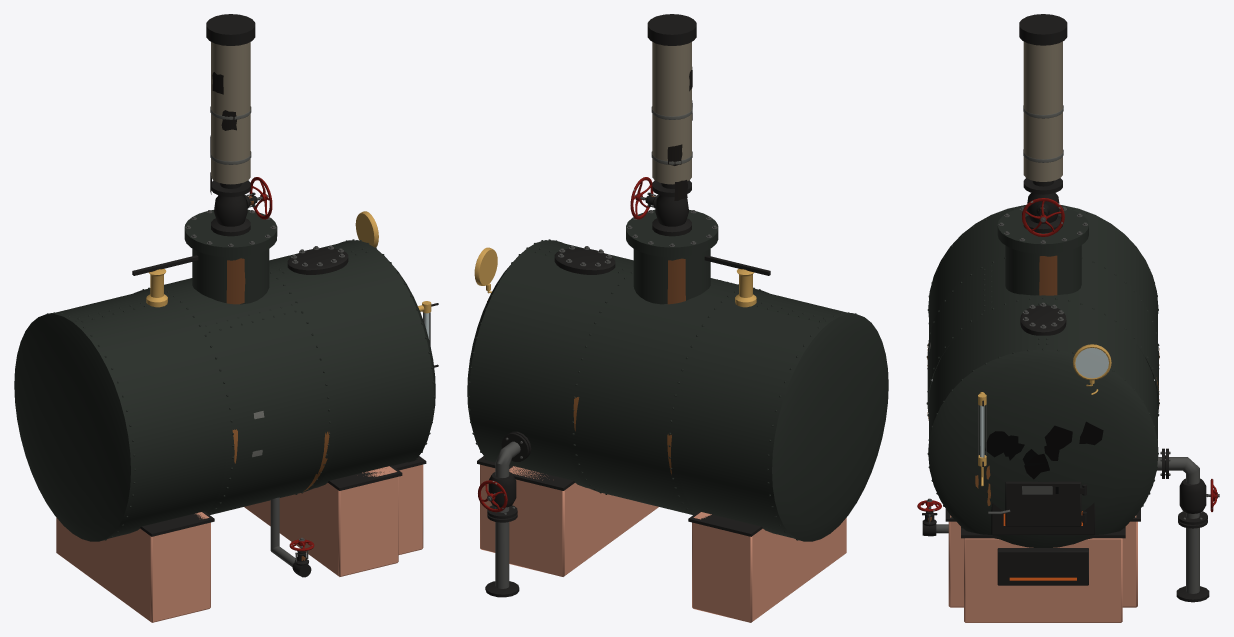
The model's file is boiler_tank.glb.
The picture shows the model from 3 angles, left to right: view 1: azimuth 30°, elevation 25°; view 2: azimuth 150°, elevation 25°; view 3: azimuth 270°, elevation 25°; orthographic projection.
Visible parts, largest first — view 1: shell, brick, iron, lag, steel, brass, rust, wheel; view 2: shell, brick, iron, lag, steel, brass, wheel, rust, soot_l; view 3: shell, iron, brick, lag, steel, soot, glass, wheel, rust, brass.
Part boxes in pixels (left/top/right/bottom): shell: left=14, top=209, right=435, bottom=541; brick: left=56, top=464, right=423, bottom=622; iron: left=132, top=14, right=438, bottom=577; lag: left=211, top=42, right=250, bottom=184; steel: left=185, top=192, right=430, bottom=566; brass: left=146, top=211, right=431, bottom=313; rust: left=226, top=196, right=305, bottom=560; wheel: left=249, top=177, right=314, bottom=551; shell: left=467, top=209, right=888, bottom=541; brick: left=480, top=464, right=846, bottom=622; iron: left=477, top=14, right=770, bottom=597; lag: left=652, top=42, right=691, bottom=184; steel: left=487, top=192, right=717, bottom=588; brass: left=474, top=247, right=756, bottom=307; wheel: left=478, top=177, right=653, bottom=512; rust: left=651, top=196, right=685, bottom=304; soot_l: left=667, top=67, right=692, bottom=200; shell: left=926, top=205, right=1159, bottom=547; iron: left=922, top=14, right=1209, bottom=602; brick: left=948, top=515, right=1137, bottom=622; lag: left=1023, top=41, right=1062, bottom=181; steel: left=926, top=204, right=1219, bottom=593; soot: left=985, top=421, right=1103, bottom=479; glass: left=980, top=348, right=1108, bottom=457; wheel: left=917, top=198, right=1217, bottom=511; rust: left=928, top=207, right=1057, bottom=521; brass: left=978, top=344, right=1111, bottom=486.
Size of the model in its own units: 2.56 by 3.8 by 1.98.
